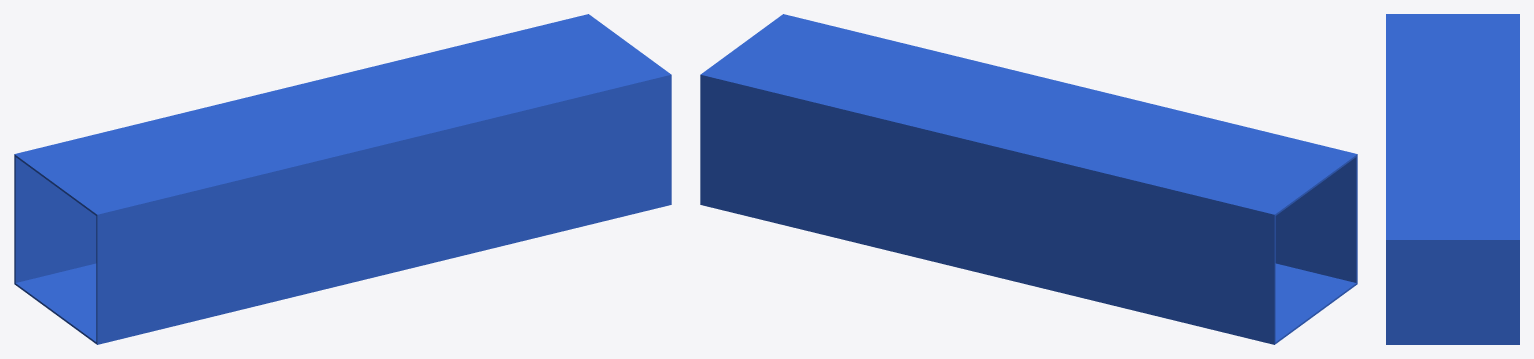
The model's file is test_containers_12x3.glb.
3 renders of one model, left to right at view 1: azimuth 30°, elevation 25°; view 2: azimuth 150°, elevation 25°; view 3: azimuth 270°, elevation 25°, orthographic. The views are drawn at different scales.
Visible parts, largest first — view 1: Container_12x3, Container_12x3_top-convcol, Container_12x3_right-convcol, Container_12x3_left-convcol, Container_12x3_bottom-convcol; view 2: Container_12x3, Container_12x3_top-convcol, Container_12x3_right-convcol, Container_12x3_bottom-convcol, Container_12x3_left-convcol; view 3: Container_12x3, Container_12x3_top-convcol.
Part boxes in pixels (x1,y1,x2,y2): Container_12x3: [14, 14, 671, 344]; Container_12x3_top-convcol: [14, 14, 652, 216]; Container_12x3_right-convcol: [96, 79, 668, 341]; Container_12x3_left-convcol: [14, 156, 96, 282]; Container_12x3_bottom-convcol: [14, 205, 665, 341]; Container_12x3: [700, 14, 1357, 344]; Container_12x3_top-convcol: [708, 15, 1357, 216]; Container_12x3_right-convcol: [1275, 156, 1357, 282]; Container_12x3_bottom-convcol: [704, 205, 1357, 342]; Container_12x3_left-convcol: [930, 150, 1275, 339]; Container_12x3: [1386, 14, 1519, 344]; Container_12x3_top-convcol: [1386, 14, 1519, 239].
Size of the model in its own units: 12 by 2.6 by 3.
